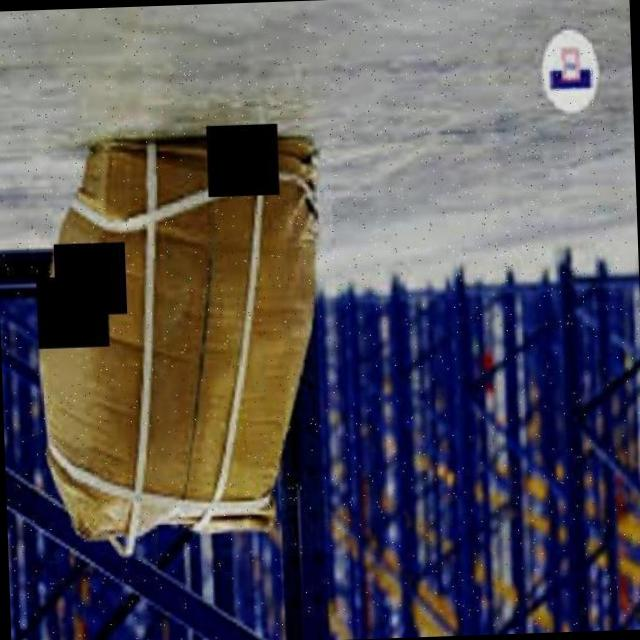box: (25, 117, 344, 564)
